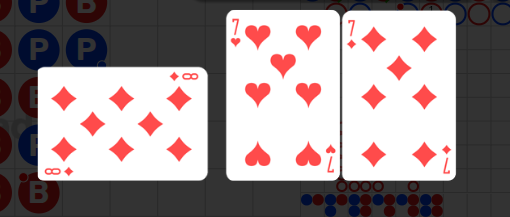7D: (346, 19, 358, 50)
7H: (229, 17, 242, 49)
8D: (44, 165, 76, 177)
